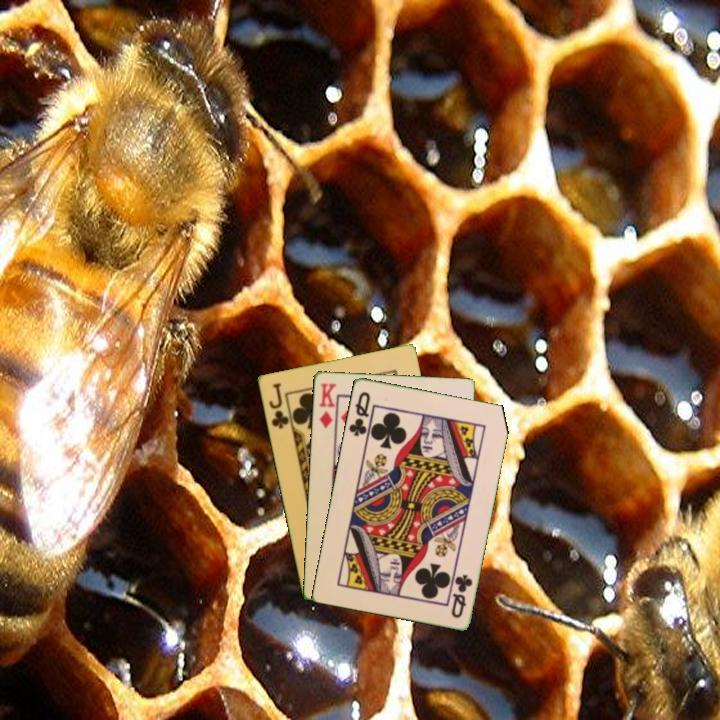Jc: (265, 379, 291, 431)
Kd: (315, 379, 339, 431)
Qc: (345, 388, 375, 442), (447, 571, 475, 621)
